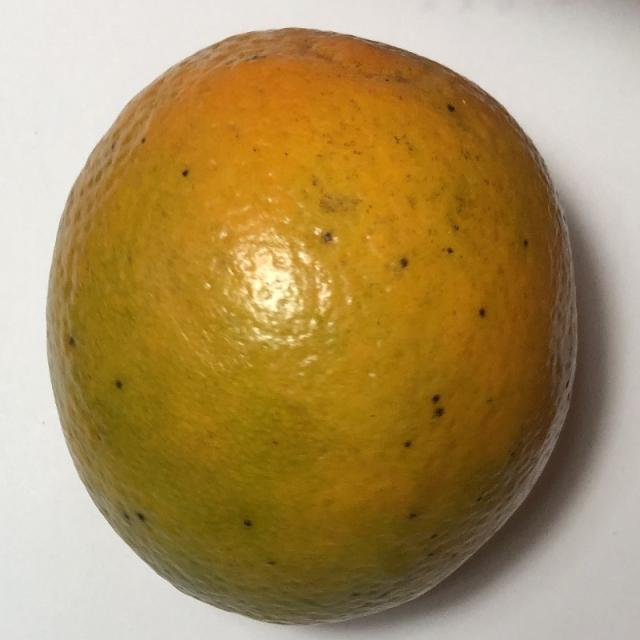blackspot: (23, 8, 598, 631)
